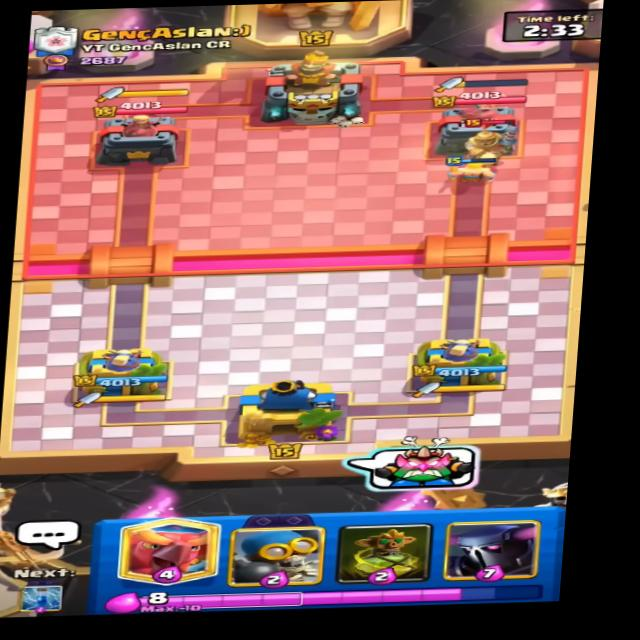prince: (453, 116, 520, 169)
